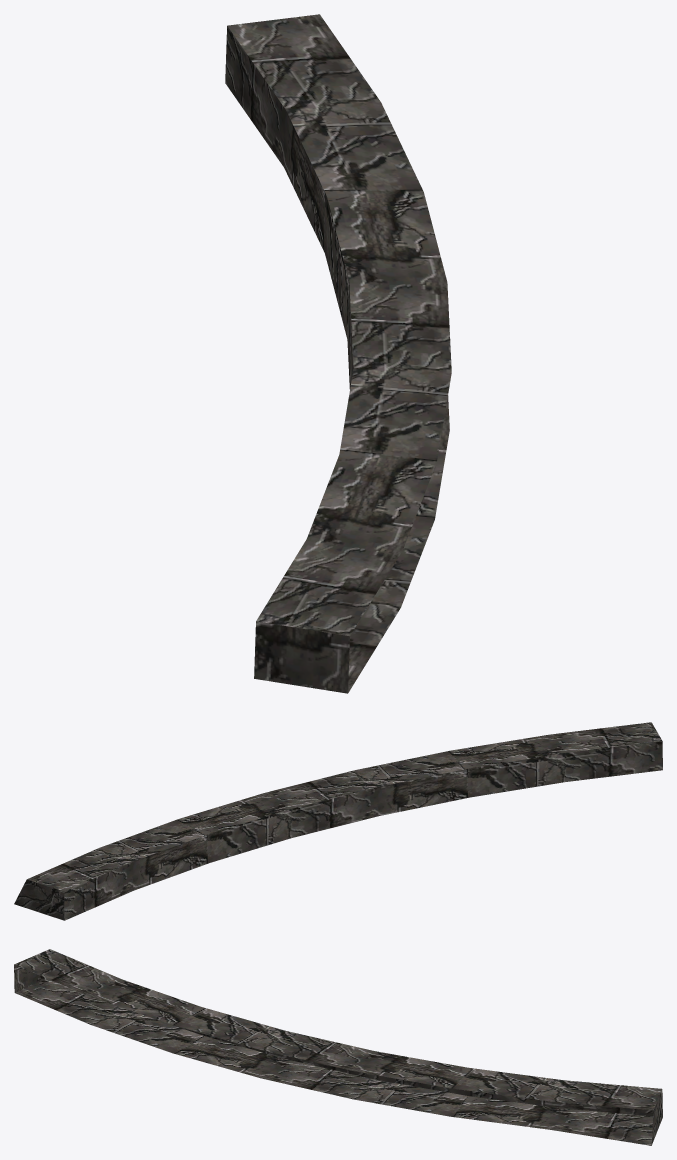
The model's file is CH09_SMAUG_PLAYSURFACE_LAIR72.fbx.
The picture shows the model from 3 angles, top to bottom: view 1: azimuth 30°, elevation 25°; view 2: azimuth 150°, elevation 25°; view 3: azimuth 270°, elevation 25°; orthographic projection. The views are drawn at different scales.
Visible parts, largest first — view 1: CH09_SMAUG_PLAYSURFACE_LAIR72; view 2: CH09_SMAUG_PLAYSURFACE_LAIR72; view 3: CH09_SMAUG_PLAYSURFACE_LAIR72.
Part boxes in pixels (x1,y1,x2,y2): CH09_SMAUG_PLAYSURFACE_LAIR72: (225,14,451,693); CH09_SMAUG_PLAYSURFACE_LAIR72: (14,722,662,920); CH09_SMAUG_PLAYSURFACE_LAIR72: (14,949,662,1145).
Size of the model in its own units: 97417 by 8889 by 157350.
1 material, 1 textured.
